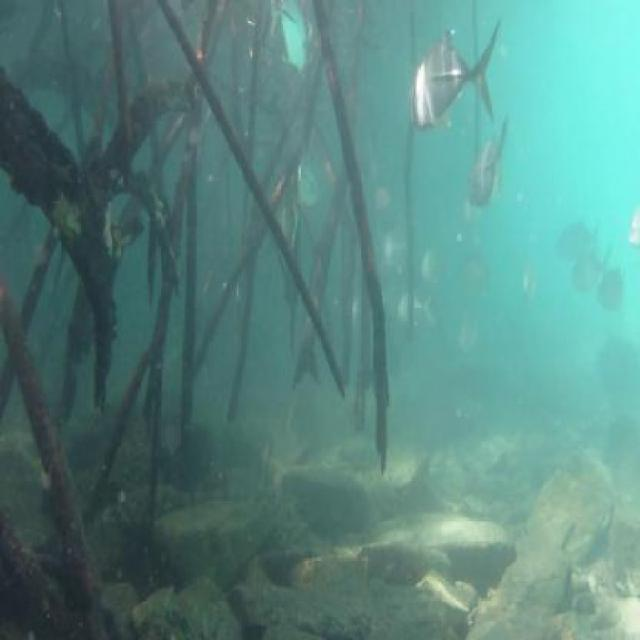Caranx_sexfasciatus_juvenile: (409, 17, 500, 135), (466, 119, 512, 212), (272, 0, 322, 85), (295, 150, 334, 235), (572, 236, 613, 304), (555, 210, 602, 267), (455, 248, 500, 304), (396, 284, 436, 345), (276, 195, 307, 262), (455, 313, 488, 372), (599, 260, 626, 332), (378, 229, 418, 276), (516, 254, 544, 318), (417, 238, 446, 294), (621, 206, 640, 270)
